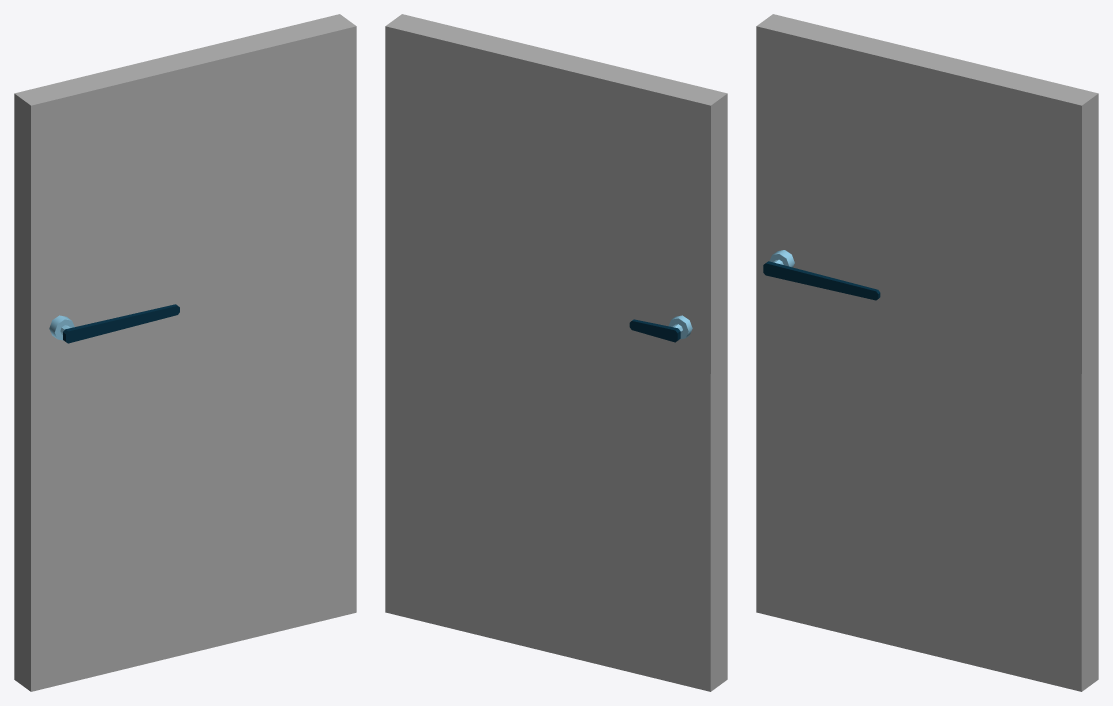
The model's file is door.FBX.
The picture shows the model from 3 angles, left to right: view 1: azimuth 30°, elevation 25°; view 2: azimuth 150°, elevation 25°; view 3: azimuth 330°, elevation 25°; orthographic projection.
Visible parts, largest first — view 1: Door; view 2: Door; view 3: Door.
Part boxes in pixels (x1,y1,x2,y2): Door: (14, 14, 356, 691); Door: (385, 14, 727, 691); Door: (756, 14, 1098, 691).
Size of the model in its own units: 46.5 by 80.02 by 10.68.
